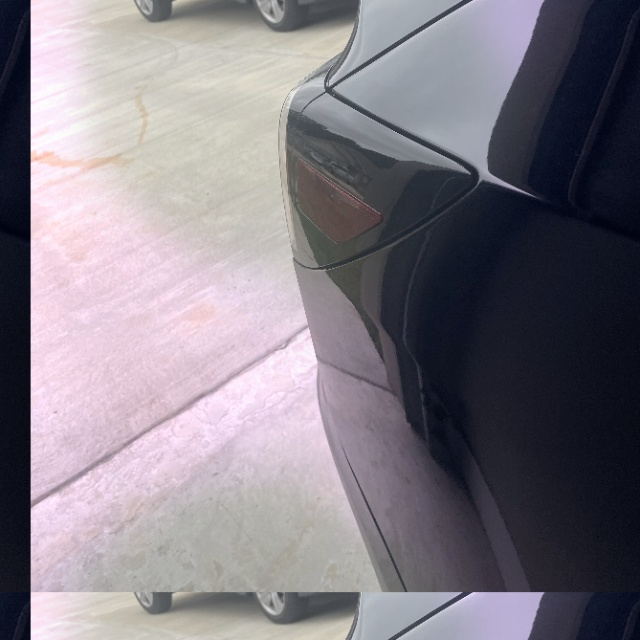reflector: (294, 157, 382, 243)
